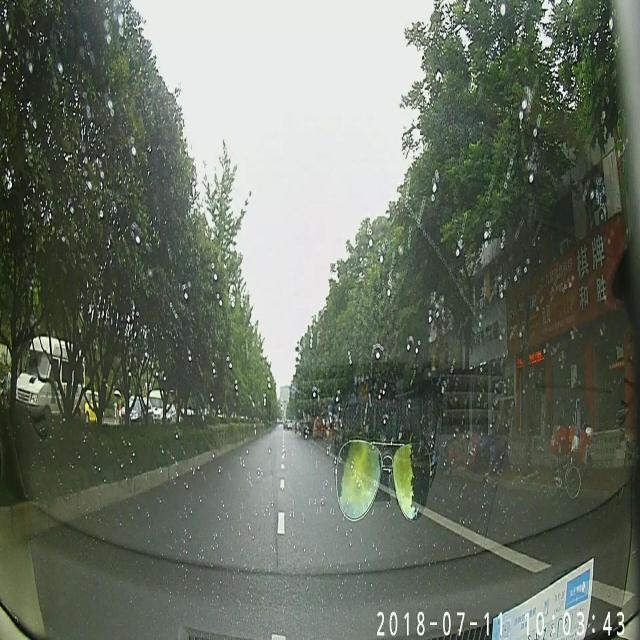car: (14, 333, 86, 423)
